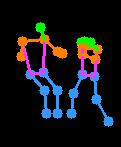normal: (13, 15, 68, 124), (62, 30, 120, 132)
